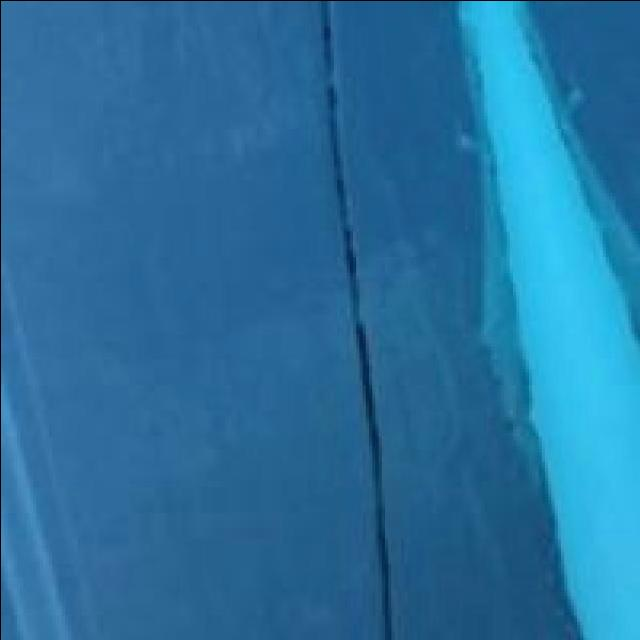SurfaceCrack: (272, 0, 420, 634)
